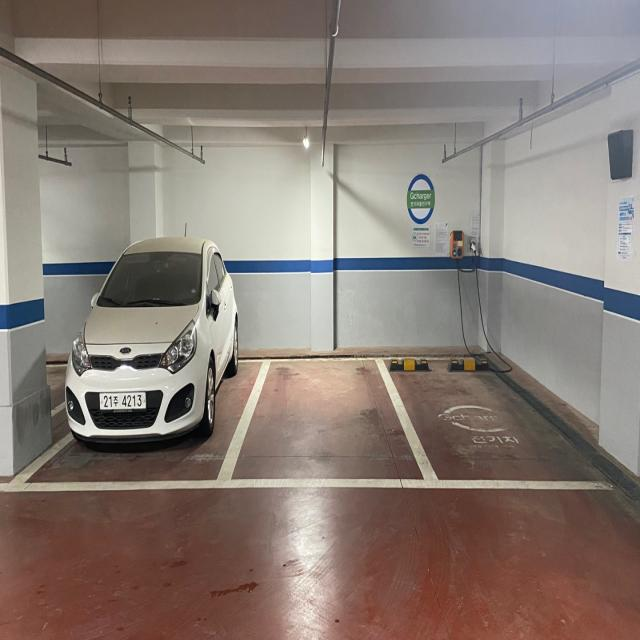empty: (374, 353, 631, 491), (210, 355, 441, 492)
occupied: (65, 235, 228, 434)
